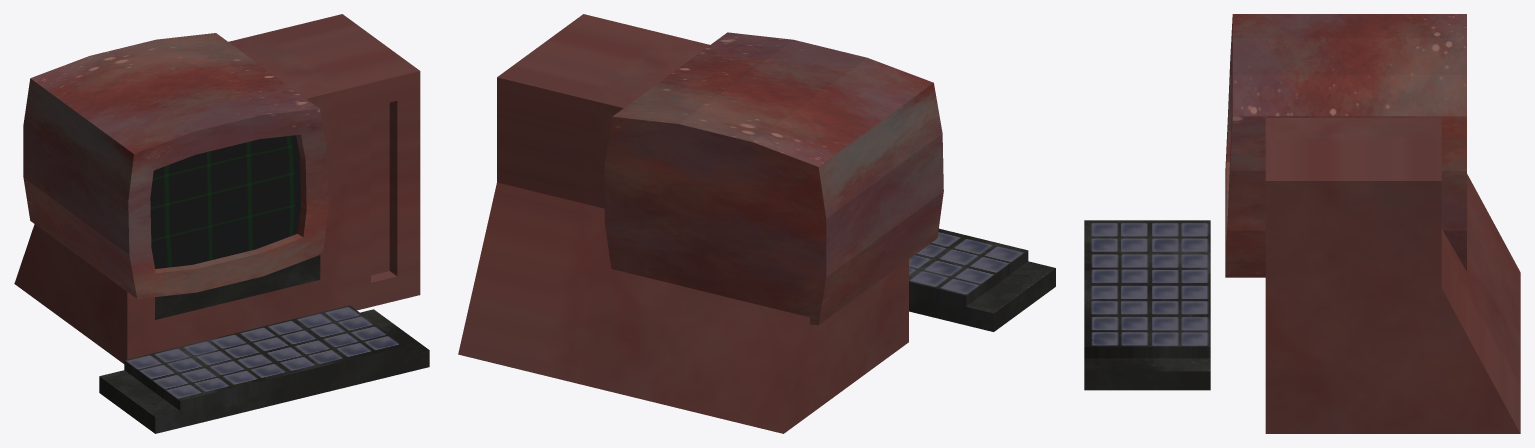
File: Computer.obj
The picture shows the model from 3 angles, left to right: view 1: azimuth 30°, elevation 25°; view 2: azimuth 150°, elevation 25°; view 3: azimuth 270°, elevation 25°; orthographic projection. The views are drawn at different scales.
Parts seen in each view (by area): view 1: Cube.001; view 2: Cube.001; view 3: Cube.001.
Part boxes in pixels (<box>): Cube.001: <box>14,14,429,433</box>; Cube.001: <box>458,14,1055,433</box>; Cube.001: <box>1084,14,1520,433</box>.
Size of the model in its own units: 1.12 by 0.72 by 1.08.
